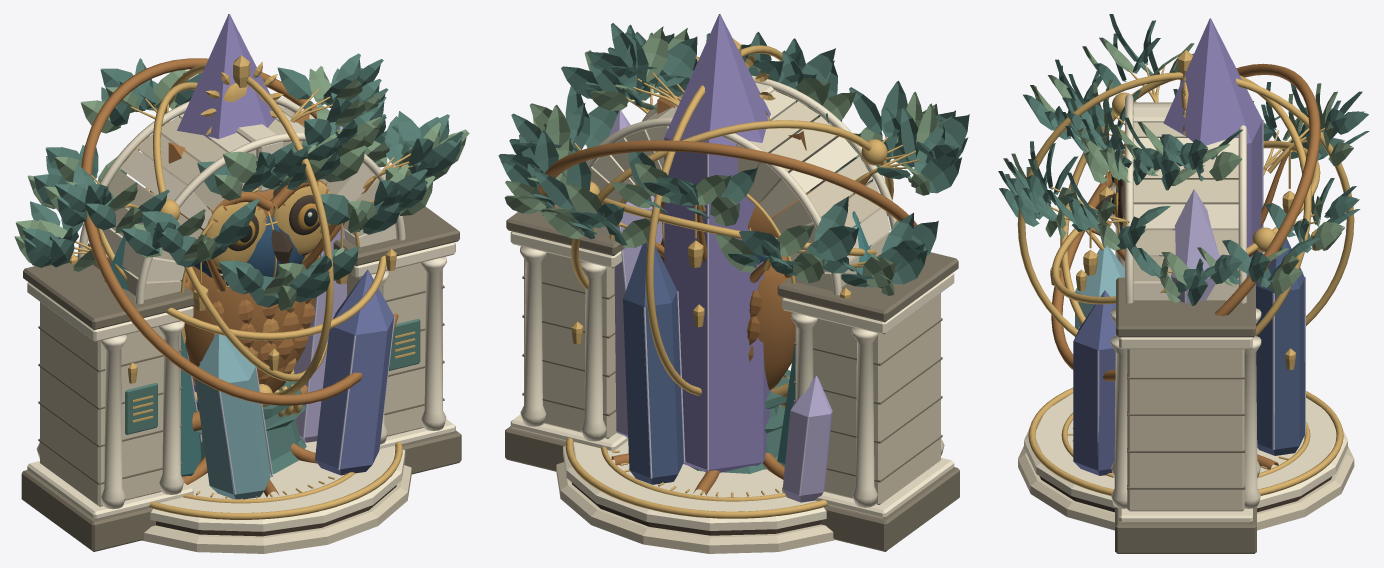
The model's file is monuments.glb.
The picture shows the model from 3 angles, left to right: view 1: azimuth 30°, elevation 25°; view 2: azimuth 150°, elevation 25°; view 3: azimuth 270°, elevation 25°; orthographic projection. The views are drawn at different scales.
Parts seen in each view (by area): view 1: Dressed pier masonry.002, Terminated hexagonal crystal.004, Chamfered plinth cap.001, Terminated hexagonal crystal.003, Inclined graduated zodiac hoop, Terminated hexagonal crystal, Dressed stone footing.001, Dressed pier masonry.007, Dressed pier masonry.004, Dressed pier masonry, Cast bronze owl body, Engaged fluted column.001 (+54 smaller); view 2: Terminated hexagonal crystal, Dressed pier masonry.002, Terminated hexagonal crystal.005, Dressed pier masonry.007, Chamfered plinth cap.001, Dressed stone footing.001, Inclined graduated zodiac hoop, Dressed pier masonry, Terminated hexagonal crystal.006, Dressed pier masonry.004, Engaged fluted column, Engaged fluted column.006 (+69 smaller); view 3: Dressed pier masonry.007, Terminated hexagonal crystal, Terminated hexagonal crystal.005, Chamfered plinth cap.001, Terminated hexagonal crystal.004, Dressed pier masonry.009, Inclined graduated zodiac hoop, Dressed pier masonry.005, Solid brass orbital band.002, Dressed stone footing.001, Solid brass orbital band.001, Terminated hexagonal crystal.002 (+26 smaller).
Boxes of the visible parts, box(x1,y1,x2,y2) form: Dressed pier masonry.002: box(40, 302, 180, 506); Terminated hexagonal crystal.004: box(315, 269, 394, 475); Chamfered plinth cap.001: box(150, 441, 405, 531); Terminated hexagonal crystal.003: box(194, 333, 270, 499); Inclined graduated zodiac hoop: box(81, 58, 398, 405); Terminated hexagonal crystal: box(177, 14, 277, 411); Dressed stone footing.001: box(141, 465, 411, 553); Dressed pier masonry.007: box(346, 262, 442, 436); Dressed pier masonry.004: box(23, 255, 194, 329); Dressed pier masonry: box(21, 470, 155, 551); Cast bronze owl body: box(184, 254, 315, 392); Engaged fluted column.001: box(100, 334, 126, 509); Terminated hexagonal crystal: box(664, 14, 770, 472); Dressed pier masonry.002: box(795, 293, 940, 504); Terminated hexagonal crystal.005: box(623, 242, 683, 484); Dressed pier masonry.007: box(524, 252, 616, 438); Chamfered plinth cap.001: box(563, 442, 826, 530); Dressed stone footing.001: box(556, 462, 835, 553); Inclined graduated zodiac hoop: box(538, 140, 917, 226); Dressed pier masonry: box(821, 467, 959, 551); Terminated hexagonal crystal.006: box(782, 375, 832, 502); Dressed pier masonry.004: box(777, 252, 958, 322); Engaged fluted column: box(851, 327, 877, 507); Engaged fluted column.006: box(520, 246, 546, 426); Dressed pier masonry.007: box(1127, 349, 1244, 511); Terminated hexagonal crystal: box(1163, 18, 1262, 276); Terminated hexagonal crystal.005: box(1256, 238, 1304, 455); Chamfered plinth cap.001: box(1024, 393, 1347, 508); Terminated hexagonal crystal.004: box(1073, 290, 1115, 475); Dressed pier masonry.009: box(1116, 277, 1255, 337); Inclined graduated zodiac hoop: box(1051, 63, 1320, 381); Dressed pier masonry.005: box(1115, 507, 1256, 553); Solid brass orbital band.002: box(1017, 72, 1354, 336); Dressed stone footing.001: box(1018, 446, 1354, 530); Solid brass orbital band.001: box(1060, 72, 1311, 335); Terminated hexagonal crystal.002: box(1159, 189, 1228, 302).
Bounding box in the file's own units: 11.34 × 12.2 × 9.17.
